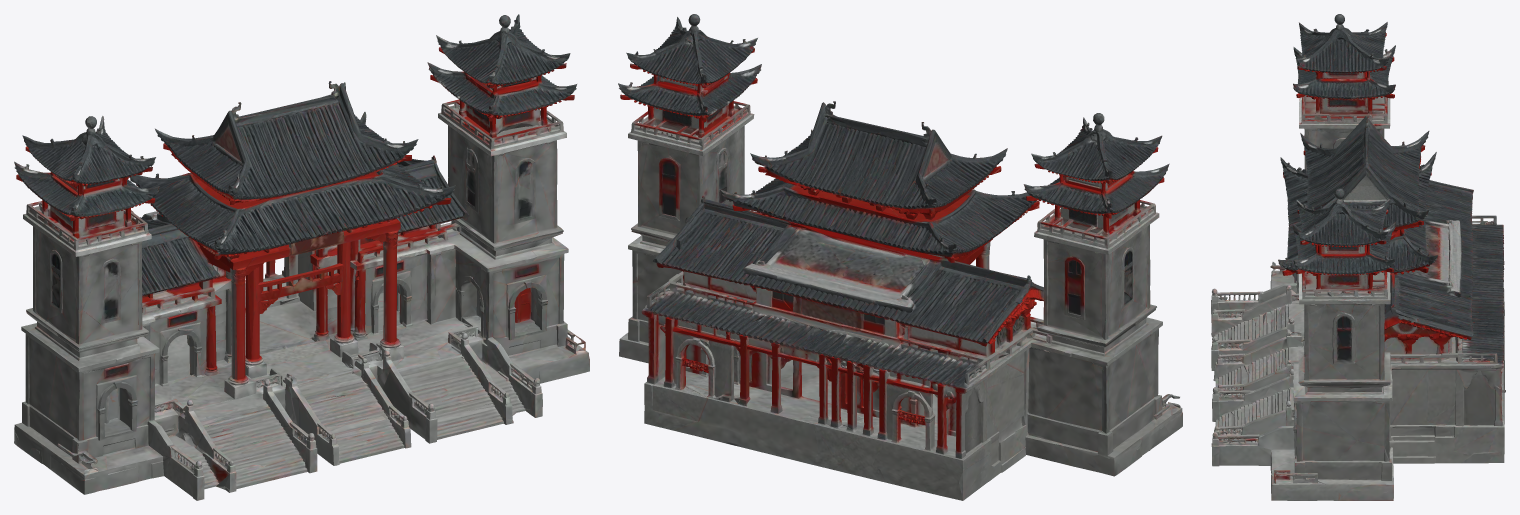
Rendered from sect_gate_grand.hd.glb.
3 renders of one model, left to right at view 1: azimuth 30°, elevation 25°; view 2: azimuth 150°, elevation 25°; view 3: azimuth 270°, elevation 25°, orthographic. The views are drawn at different scales.
Size of the model in its own units: 1.89 by 1.2 by 1.1.
Materials: 1 (1 with a texture image).
